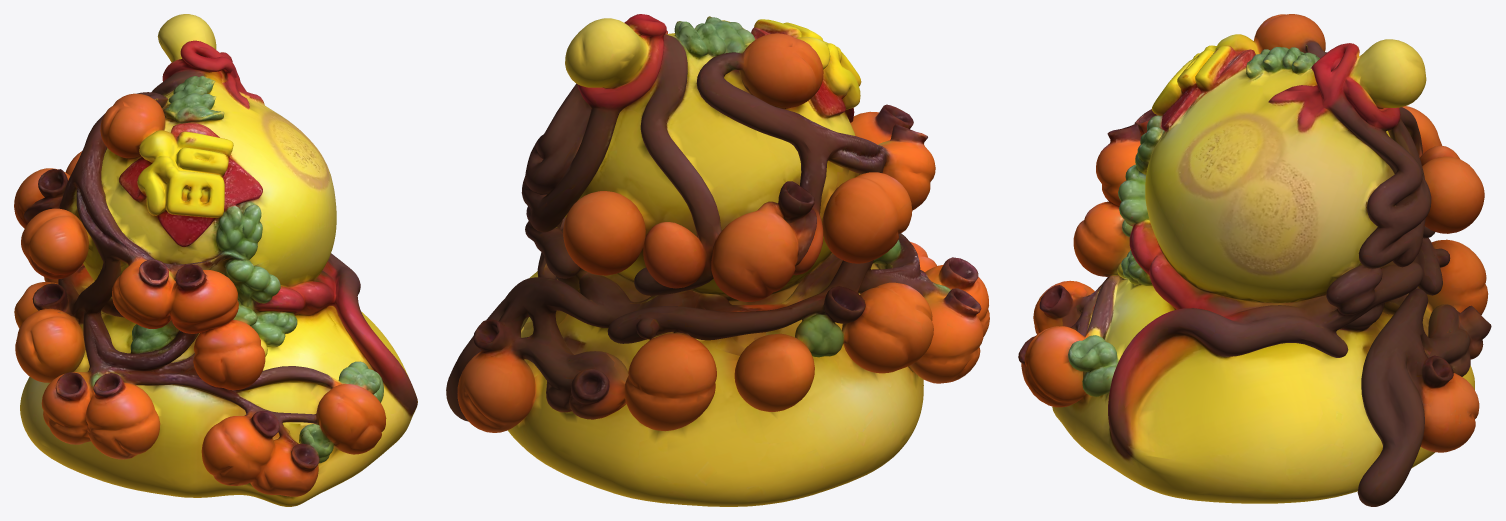
File: 宝葫芦.glb
3 views of the same model, side by side, from view 1: azimuth 30°, elevation 25°; view 2: azimuth 150°, elevation 25°; view 3: azimuth 270°, elevation 25° (orthographic). The views are drawn at different scales.
Visible parts, largest first — view 1: node_0; view 2: node_0; view 3: node_0.
Part boxes in pixels (bbox=[...]): node_0: bbox=[14, 14, 417, 506]; node_0: bbox=[446, 14, 989, 506]; node_0: bbox=[1018, 14, 1491, 506].
Size of the model in its own units: 0.8428 by 0.8068 by 0.866.
Materials: 1 (1 with a texture image).
